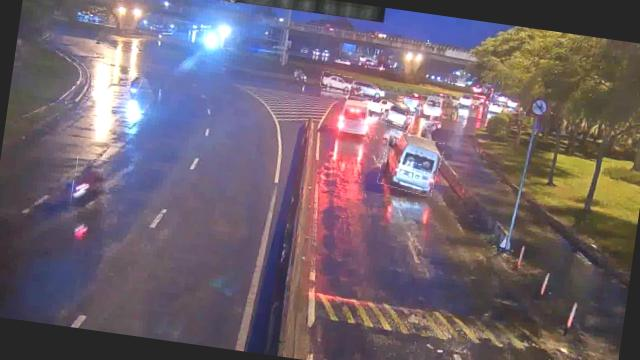Bike: (70, 156, 110, 208), (124, 70, 142, 100)
Bus: (378, 130, 443, 195), (338, 96, 372, 140), (418, 94, 449, 120)
Car: (381, 100, 415, 130), (320, 72, 352, 92)
